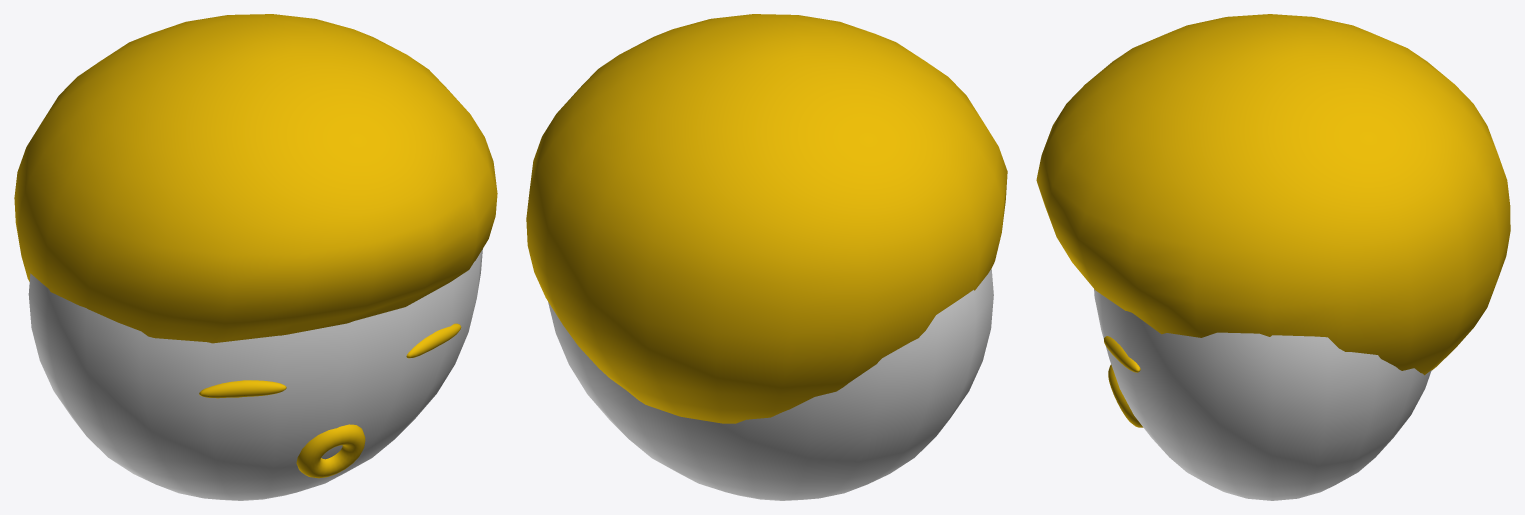
Rendered from Head.fbx.
The picture shows the model from 3 angles, left to right: view 1: azimuth 30°, elevation 25°; view 2: azimuth 150°, elevation 25°; view 3: azimuth 270°, elevation 25°; orthographic projection.
Parts seen in each view (by area): view 1: pSphere2, pSphere1, pTorus2, pSphere3, pSphere4; view 2: pSphere2, pSphere1; view 3: pSphere2, pSphere1, pTorus2.
Part boxes in pixels (x1=…): pSphere2: x1=14, y1=14, x2=497, y2=343; pSphere1: x1=28, y1=249, x2=482, y2=500; pTorus2: x1=296, y1=424, x2=365, y2=478; pSphere3: x1=199, y1=380, x2=286, y2=398; pSphere4: x1=406, y1=323, x2=461, y2=358; pSphere2: x1=526, y1=14, x2=1007, y2=423; pSphere1: x1=548, y1=269, x2=993, y2=500; pSphere2: x1=1036, y1=14, x2=1510, y2=375; pSphere1: x1=1094, y1=289, x2=1431, y2=500; pTorus2: x1=1108, y1=364, x2=1143, y2=427.
Size of the model in its own units: 8 by 8.02 by 7.89.
